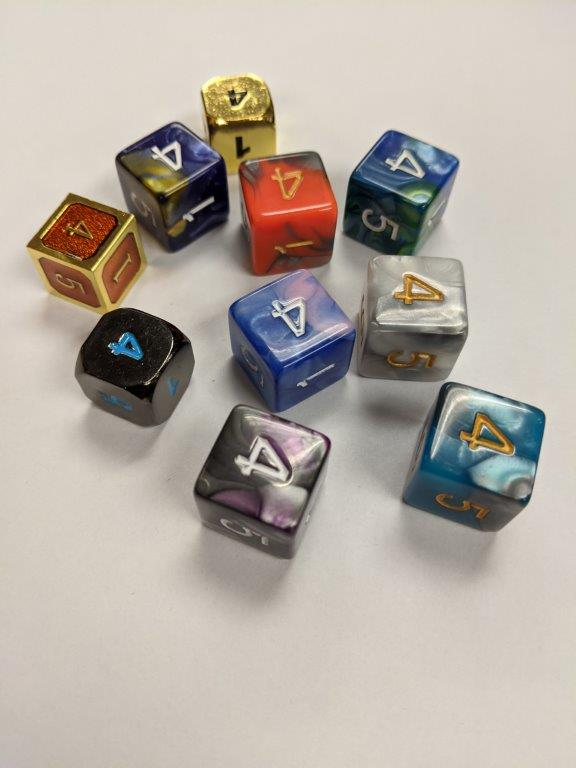d6-4: (400, 381, 547, 531), (186, 405, 330, 558), (229, 268, 357, 411), (63, 308, 197, 426), (115, 126, 231, 254), (343, 128, 462, 251), (358, 254, 473, 381), (25, 192, 145, 310), (236, 148, 340, 273), (199, 75, 275, 157)
